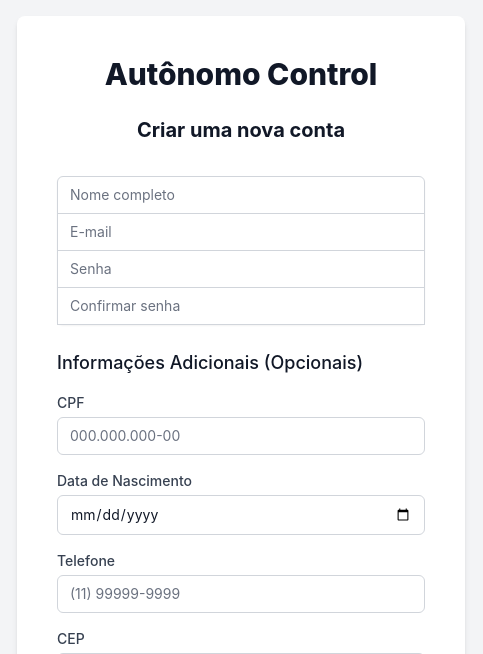
Test: RegisterForm - Formulário Expandido › Validação de CPF › deve formatar CPF automaticamente durante a digitação
Type "12345678901" into the field labelled "CPF".
click(241, 436); type("12345678901")  # box [57, 417, 425, 455]
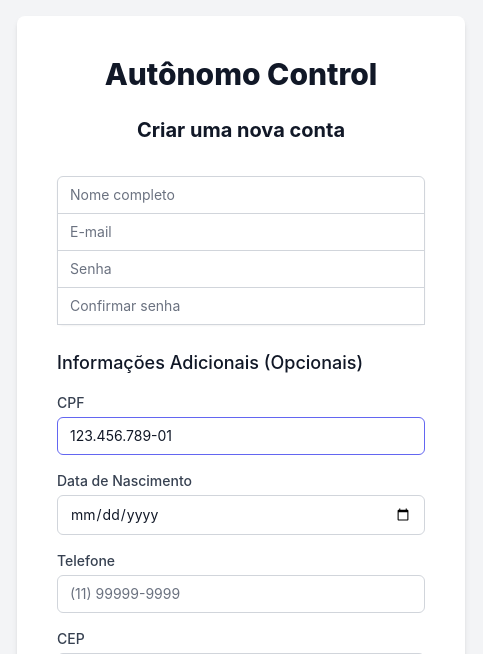
Result: the field labelled "CPF" holds "123.456.789-01" at [57, 417, 425, 455]
